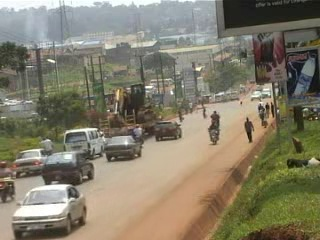Car: (9, 181, 87, 239), (40, 149, 96, 190), (12, 145, 51, 177), (105, 133, 143, 163), (153, 117, 183, 143), (248, 87, 261, 103)
Motorcycle: (0, 158, 18, 202), (132, 122, 146, 147), (207, 120, 220, 146)
